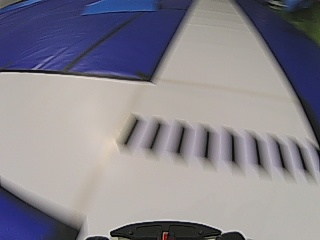CrossWalk: (123, 123, 311, 175)
